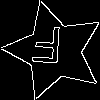F: (29, 26, 63, 73)
